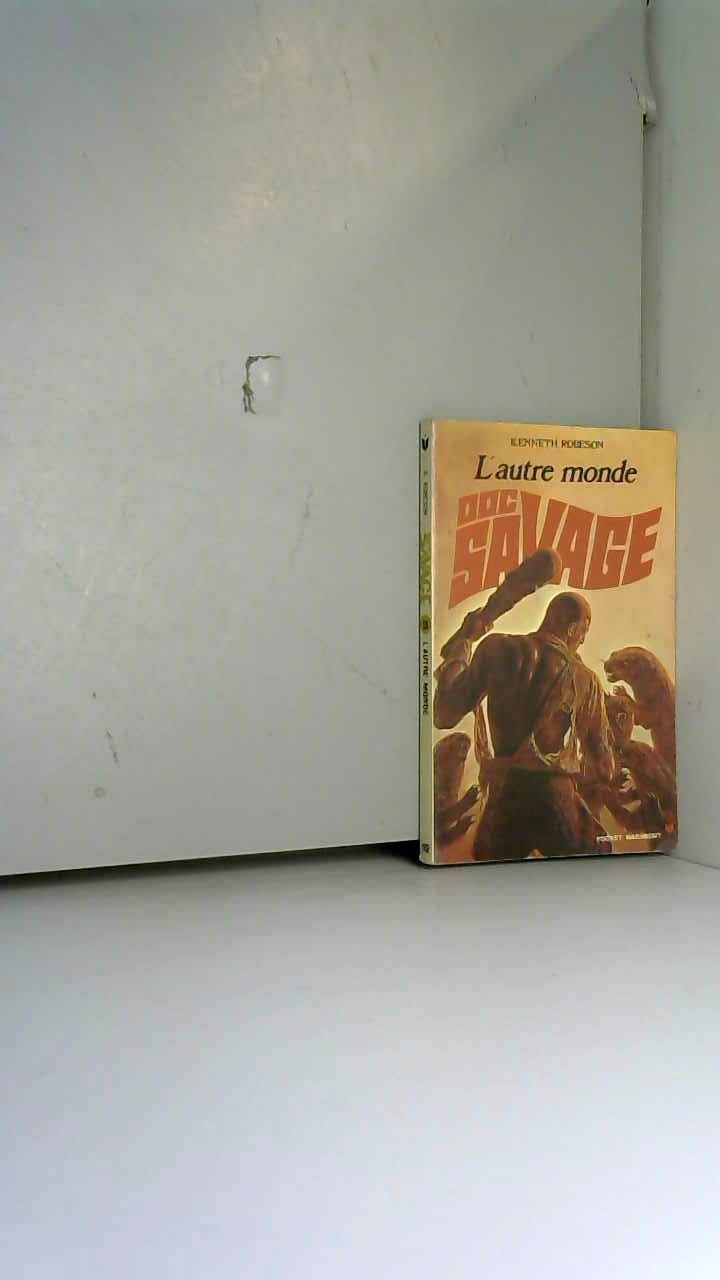book: (390, 360, 720, 904)
